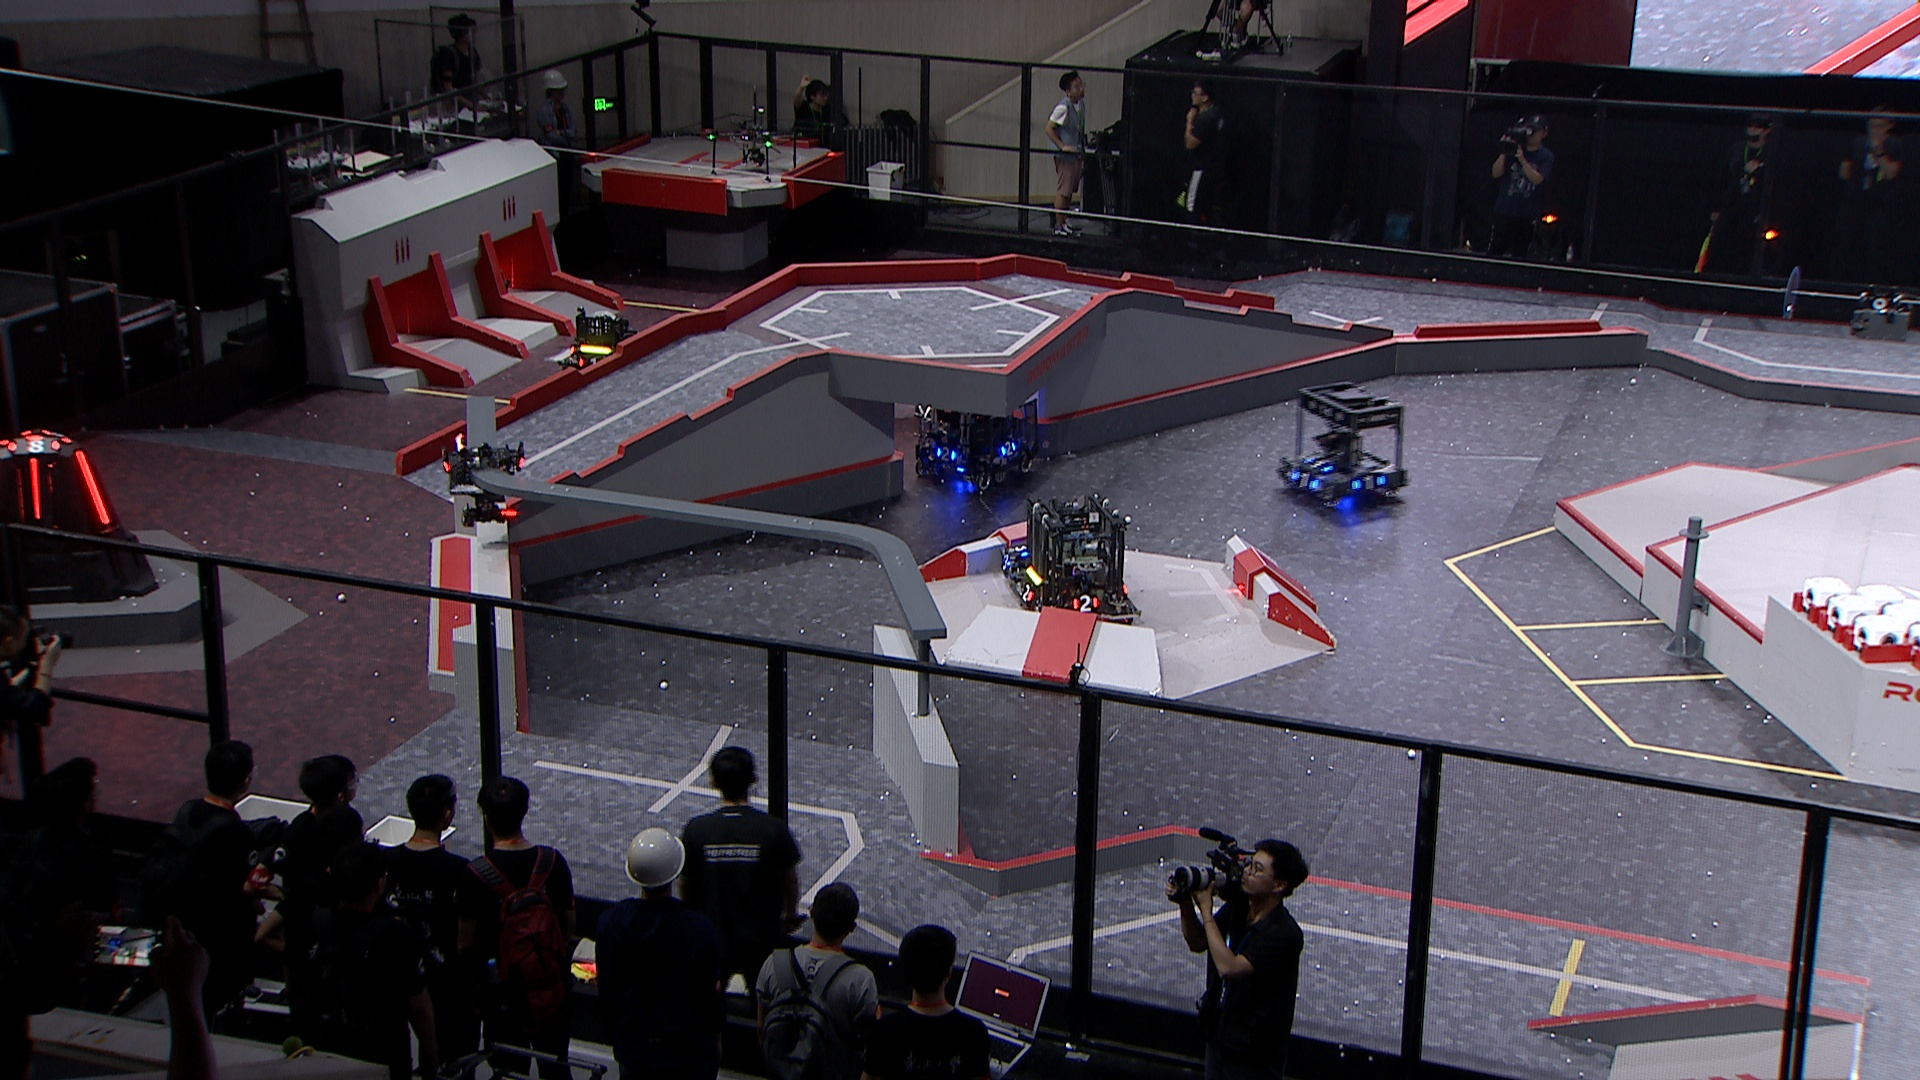armor: (76, 451, 112, 526), (25, 456, 41, 518), (7, 436, 61, 452), (1288, 469, 1319, 495), (1349, 473, 1382, 491), (1073, 593, 1100, 612), (1309, 456, 1335, 475), (934, 446, 957, 462), (1019, 583, 1035, 603), (1001, 551, 1015, 572), (1001, 442, 1021, 456), (1011, 541, 1029, 556), (578, 356, 595, 371)
car: (1010, 491, 1139, 632), (1275, 380, 1411, 509), (909, 375, 1044, 491), (560, 306, 641, 381), (993, 517, 1067, 593)
watcher: (436, 433, 529, 526)
